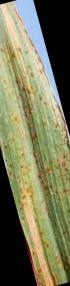Wheat: (8, 146, 68, 220), (1, 28, 24, 138), (27, 61, 45, 138)
